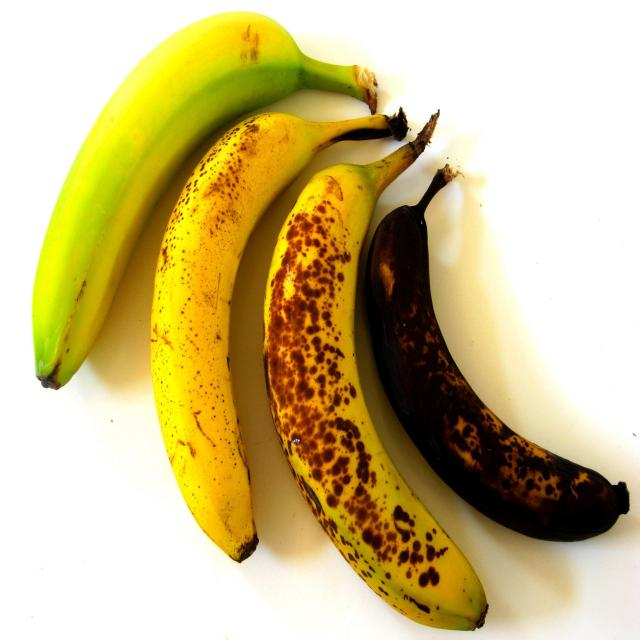Banana: (260, 113, 529, 632), (24, 14, 384, 398), (142, 105, 410, 568), (362, 163, 634, 544)
